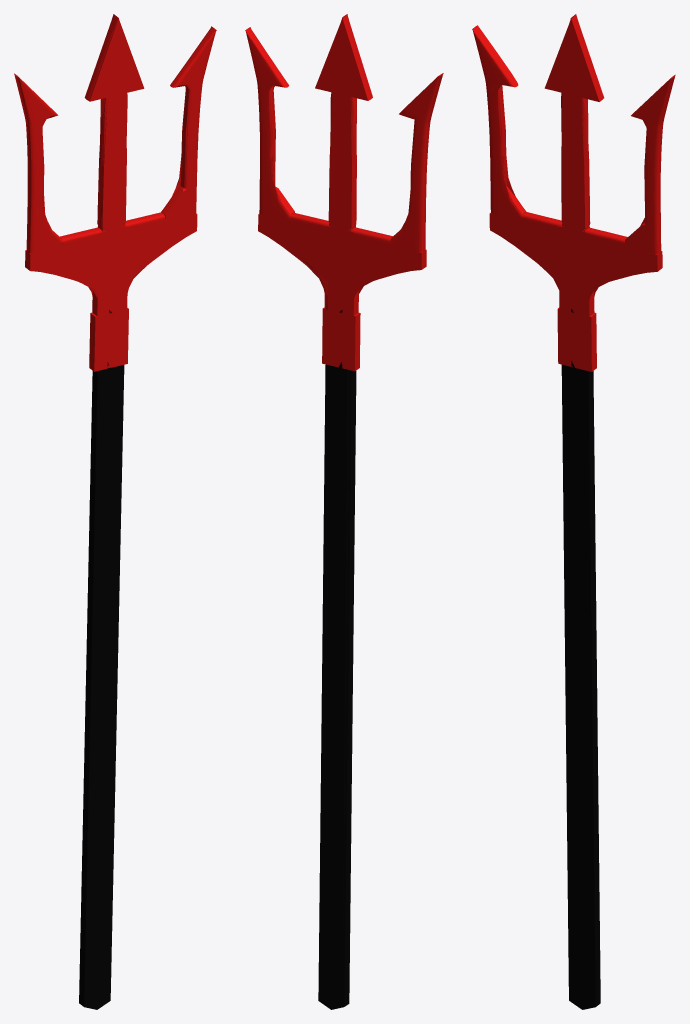
Rendered from Devil-Spear.fbx.
3 views of the same model, side by side, from view 1: azimuth 30°, elevation 25°; view 2: azimuth 150°, elevation 25°; view 3: azimuth 330°, elevation 25° (orthographic). The views are drawn at different scales.
Visible parts, largest first — view 1: Plane.001; view 2: Plane.001; view 3: Plane.001.
Boxes of the visible parts, x1,y1,x2,y2 form: Plane.001: (14,14,216,1009); Plane.001: (245,14,443,1009); Plane.001: (472,14,675,1009).
Size of the model in its own units: 195 by 942 by 36.47.
